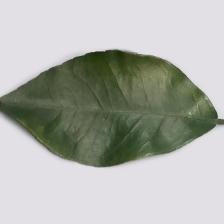healthy: (20, 72, 204, 161)
